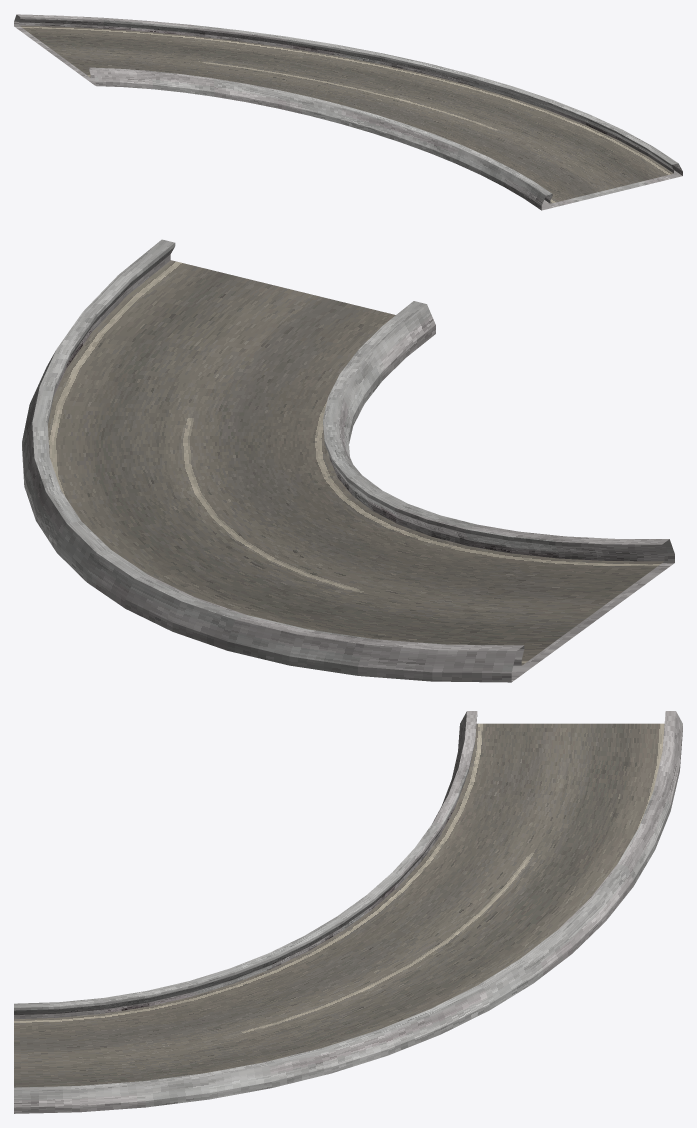
The model's file is road-Turn-Flat-BiSlopeUp-Up2-Left-Size3.glb.
The picture shows the model from 3 angles, top to bottom: view 1: azimuth 30°, elevation 25°; view 2: azimuth 150°, elevation 25°; view 3: azimuth 270°, elevation 25°; orthographic projection. The views are drawn at different scales.
Parts seen in each view (by area): view 1: road-Turn-Flat-BiSlopeUp-Up2-Left-Size3; view 2: road-Turn-Flat-BiSlopeUp-Up2-Left-Size3; view 3: road-Turn-Flat-BiSlopeUp-Up2-Left-Size3.
Boxes of the visible parts, x1=… form: road-Turn-Flat-BiSlopeUp-Up2-Left-Size3: x1=14, y1=14, x2=682, y2=210; road-Turn-Flat-BiSlopeUp-Up2-Left-Size3: x1=22, y1=239, x2=674, y2=682; road-Turn-Flat-BiSlopeUp-Up2-Left-Size3: x1=14, y1=711, x2=682, y2=1113.
Bounding box in the file's own units: 3 × 0.5938 × 3.
2 materials, 2 textured.
